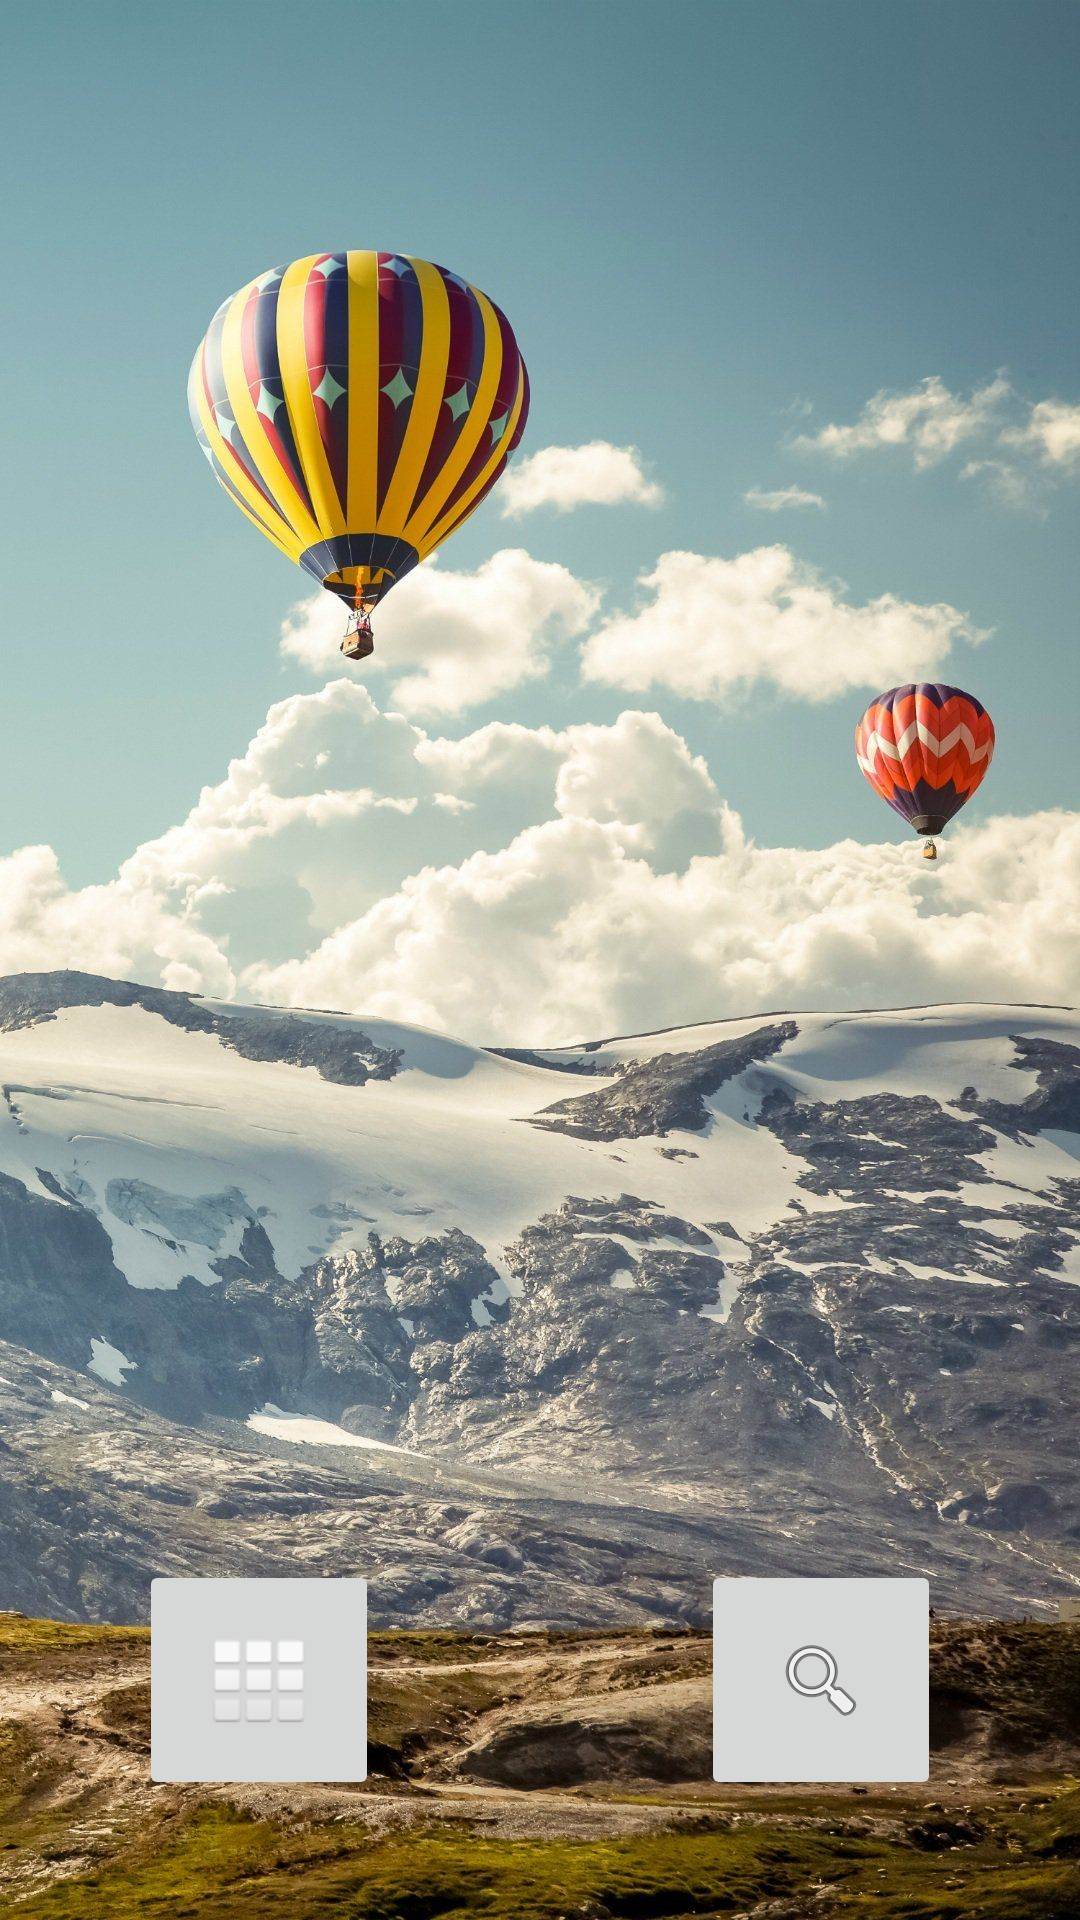

Named icons in this screenshot (1080w x 1920h) and their centers, (x=x, y=y):
dialer: (x=259, y=1680)
search: (x=821, y=1680)
